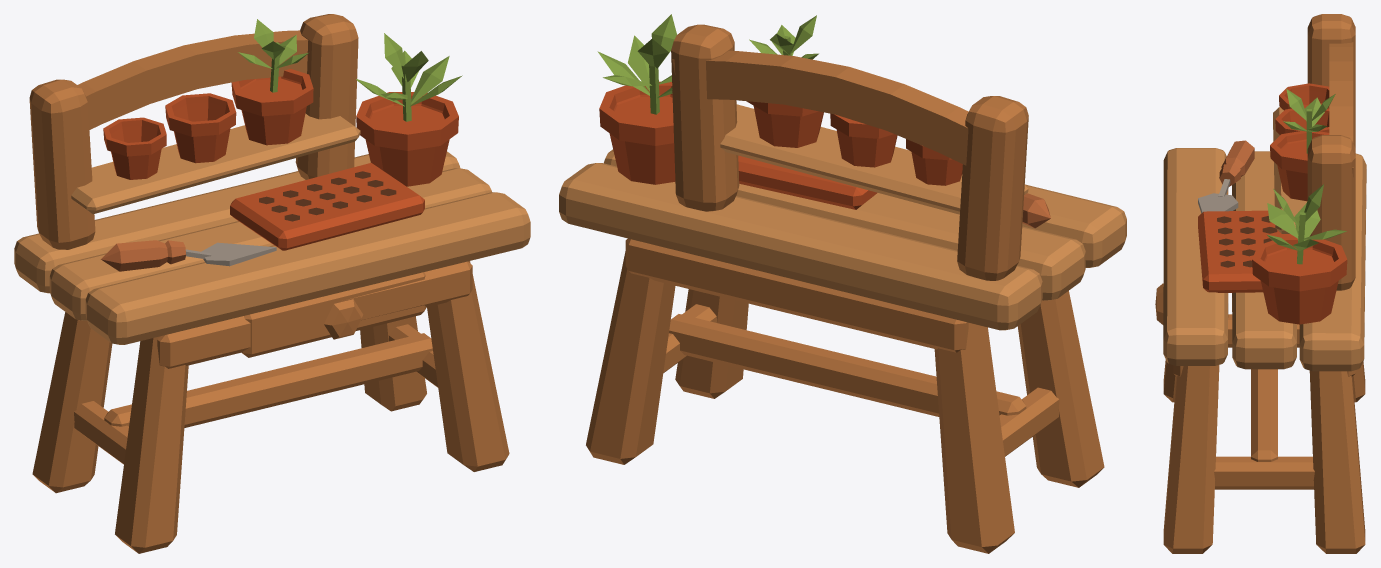
Rendered from potting-bench-charming.glb.
The picture shows the model from 3 angles, left to right: view 1: azimuth 30°, elevation 25°; view 2: azimuth 150°, elevation 25°; view 3: azimuth 270°, elevation 25°; orthographic projection. The views are drawn at different scales.
Parts seen in each view (by area): view 1: frame, top, pots, seed_tray, shelf, drawer, succulent, trowel_handle, soil, trowel_blade; view 2: frame, top, pots, shelf, succulent, seed_tray, trowel_handle; view 3: frame, top, pots, seed_tray, succulent, trowel_handle, soil, trowel_blade, shelf, drawer.
Boxes of the visible parts, bbox=[...] form: frame: bbox=[29, 14, 509, 553]; top: bbox=[14, 151, 530, 344]; pots: bbox=[103, 69, 458, 186]; seed_tray: bbox=[230, 163, 424, 250]; shelf: bbox=[71, 113, 360, 214]; drawer: bbox=[241, 272, 426, 357]; succulent: bbox=[238, 19, 462, 121]; trowel_handle: bbox=[101, 240, 186, 271]; soil: bbox=[259, 171, 396, 221]; trowel_blade: bbox=[185, 242, 276, 266]; frame: bbox=[586, 24, 1104, 553]; top: bbox=[559, 149, 1126, 330]; pots: bbox=[599, 81, 962, 185]; shelf: bbox=[720, 104, 1028, 214]; succulent: bbox=[597, 14, 818, 114]; seed_tray: bbox=[738, 155, 877, 209]; trowel_handle: bbox=[1022, 193, 1050, 228]; frame: bbox=[1163, 14, 1365, 553]; top: bbox=[1163, 148, 1366, 371]; pots: bbox=[1252, 83, 1347, 324]; seed_tray: bbox=[1198, 210, 1293, 292]; succulent: bbox=[1267, 89, 1346, 264]; trowel_handle: bbox=[1219, 140, 1254, 186]; soil: bbox=[1217, 216, 1277, 267]; trowel_blade: bbox=[1198, 179, 1238, 213]; shelf: bbox=[1273, 107, 1307, 233]; drawer: bbox=[1155, 283, 1163, 324].
Size of the model in its own units: 1.42 by 1.34 by 0.659.
